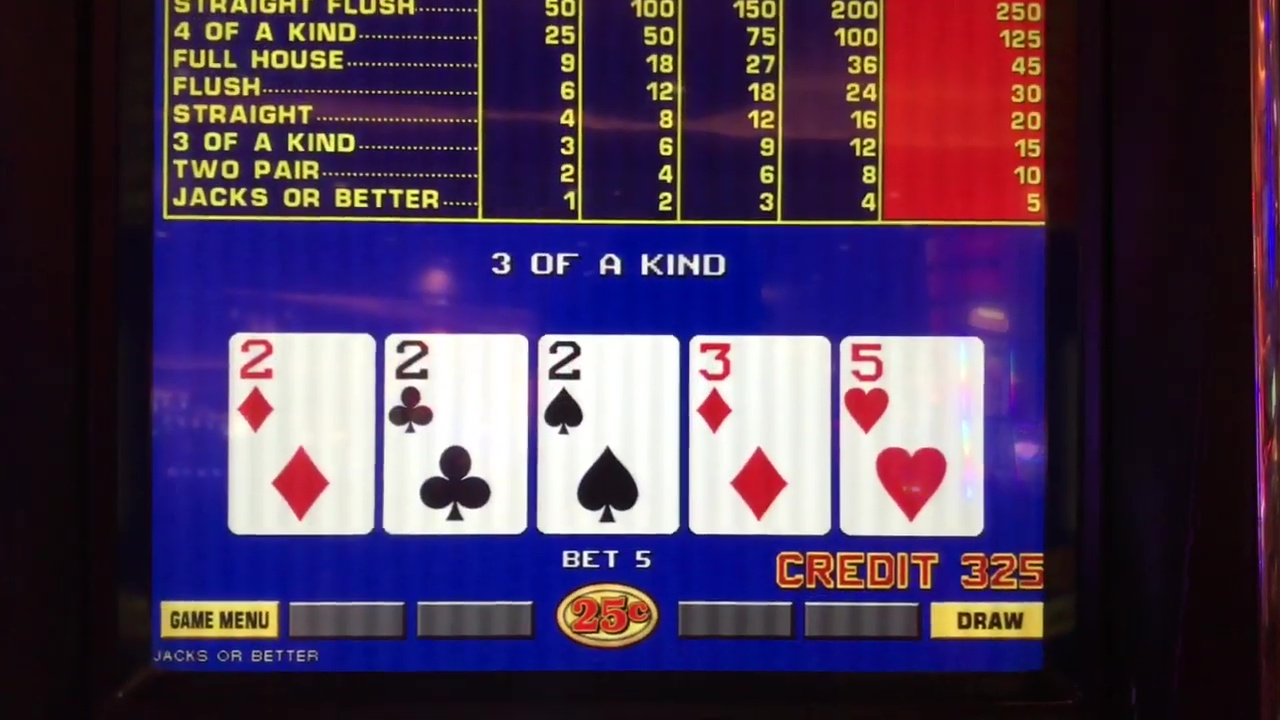C2: (391, 340, 526, 444)
D2: (233, 337, 372, 443)
D3: (694, 339, 828, 446)
H5: (846, 339, 977, 444)
S2: (539, 334, 675, 443)
